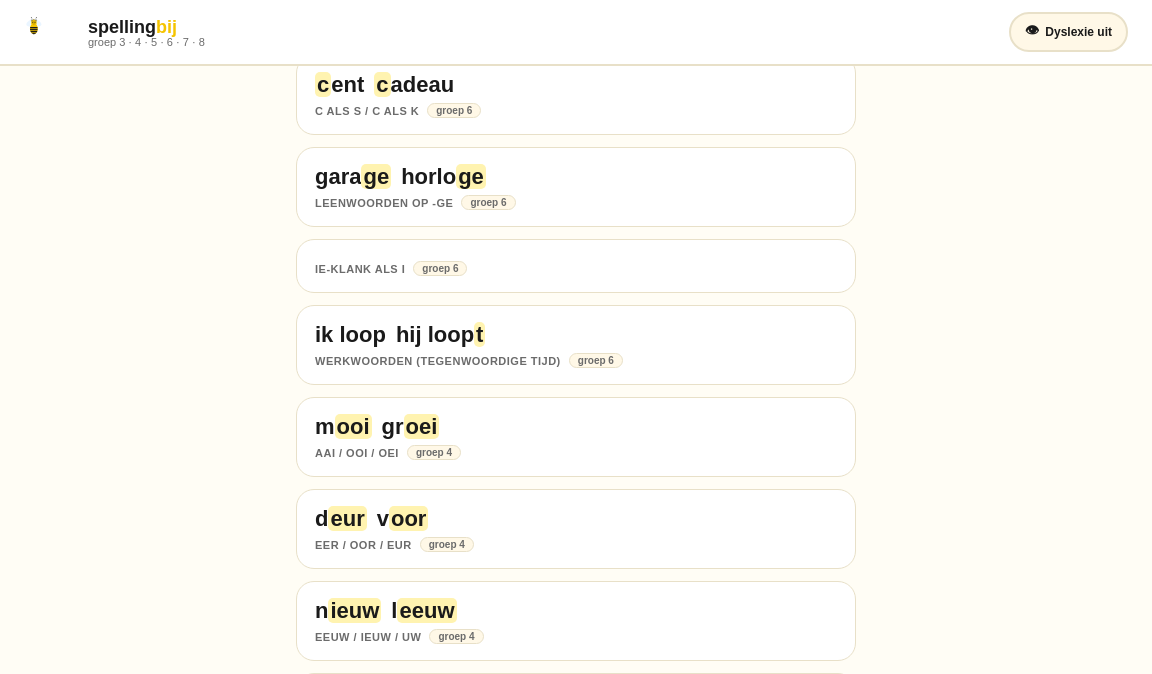
Scenario: werkwoordcategorie (itemvorm 'zin met een gat') › kiezen van de werkwoordcategorie gaat naar de zin-met-gat-flow, niet naar flits-en-typ
The image size is (1152, 674).
(page scrolled)
Click the text "Werkwoorden (tegenwoordige tijd)".
click(438, 360)  # box [315,354,561,366]
(page scrolled)
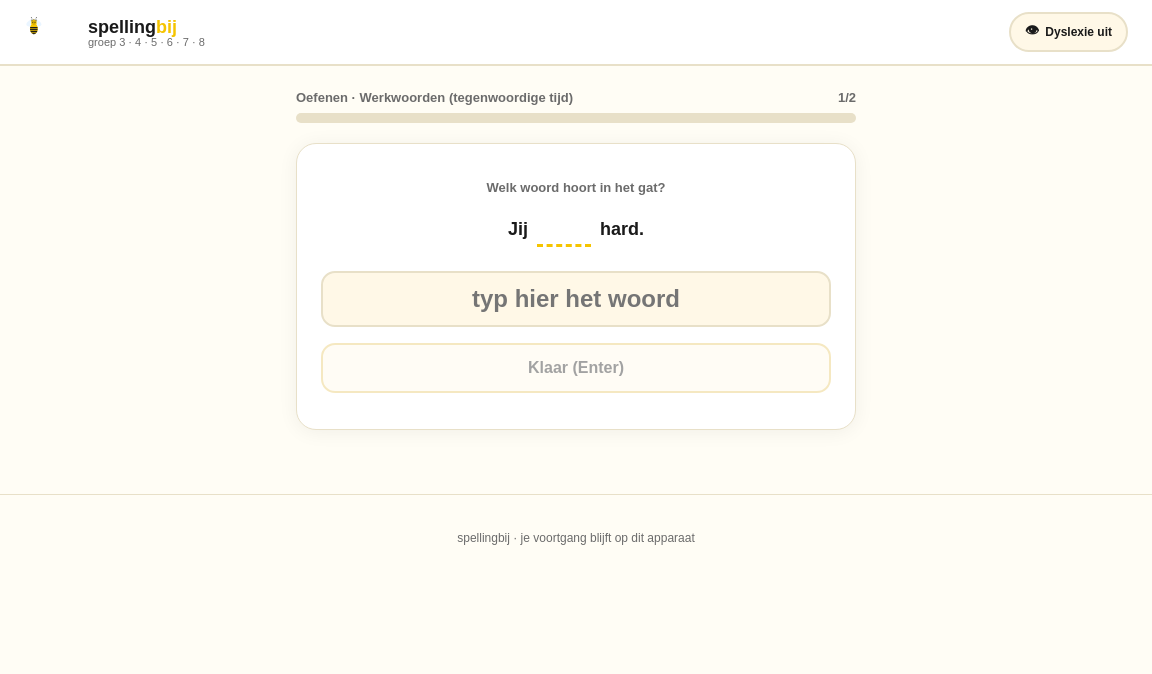
Expected: the text "Welk woord hoort in het gat?" is shown, [487,180,666,195]
